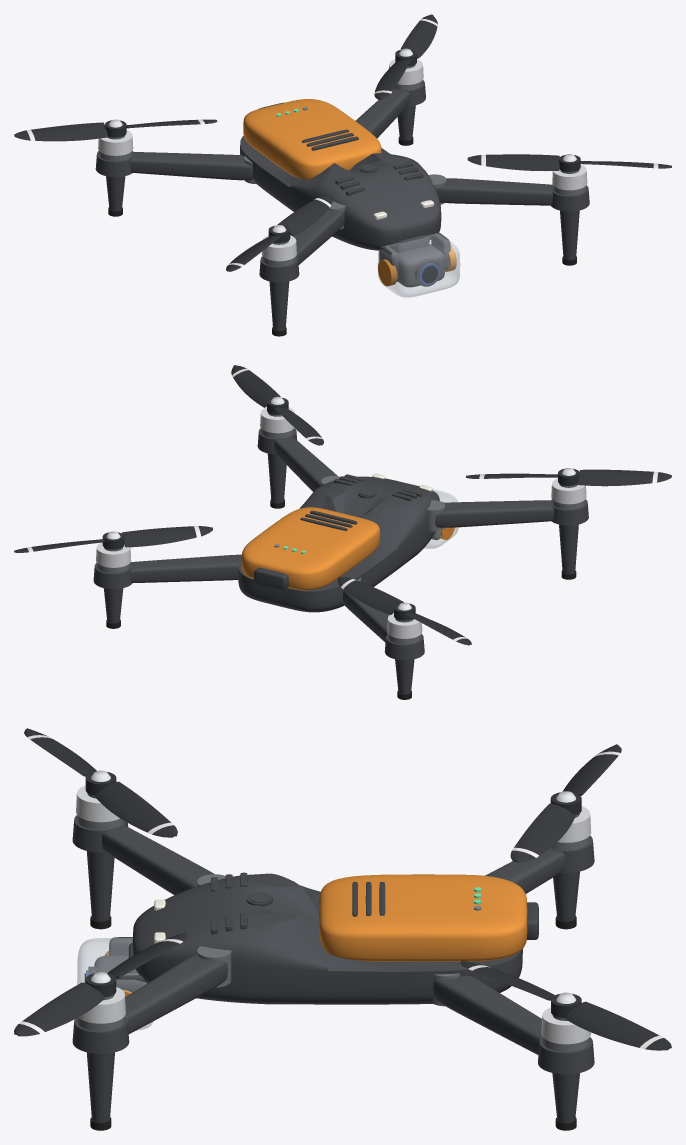
Rendered from TALON_X4.fbx.
The picture shows the model from 3 angles, top to bottom: view 1: azimuth 30°, elevation 25°; view 2: azimuth 150°, elevation 25°; view 3: azimuth 270°, elevation 25°; orthographic projection. The views are drawn at different scales.
Parts seen in each view (by area): view 1: Body, Battery, Arm_FR, Arm_RL, Gimbal_Clamp, Arm_FL, Arm_RR, Prop_RL, Prop_FR, Prop_FL, Prop_RR, Gimbal_Camera (+5 smaller); view 2: Body, Battery, Arm_FL, Arm_RR, Arm_FR, Arm_RL, Prop_FL, Prop_RR, Prop_RL, Prop_FR, Motor_RR, Motor_FL (+3 smaller); view 3: Body, Battery, Arm_FR, Arm_RR, Arm_FL, Prop_RR, Prop_FR, Prop_FL, Arm_RL, Prop_RL, Gimbal_Clamp, Motor_RR (+4 smaller).
Part boxes in pixels (x1=…): Body: x1=240, y1=136, x2=441, y2=250; Battery: x1=243, y1=99, x2=381, y2=179; Arm_FR: x1=428, y1=174, x2=589, y2=265; Arm_RL: x1=95, y1=151, x2=255, y2=216; Gimbal_Clamp: x1=377, y1=233, x2=460, y2=297; Arm_FL: x1=259, y1=201, x2=345, y2=336; Arm_RR: x1=355, y1=80, x2=425, y2=145; Prop_RL: x1=14, y1=119, x2=217, y2=141; Prop_FR: x1=467, y1=154, x2=671, y2=171; Prop_FL: x1=226, y1=195, x2=332, y2=271; Prop_RR: x1=374, y1=14, x2=437, y2=99; Gimbal_Camera: x1=397, y1=244, x2=444, y2=287; Body: x1=238, y1=473, x2=439, y2=612; Battery: x1=241, y1=507, x2=380, y2=590; Arm_FL: x1=427, y1=499, x2=588, y2=579; Arm_RR: x1=93, y1=554, x2=241, y2=628; Arm_FR: x1=257, y1=428, x2=339, y2=508; Arm_RL: x1=343, y1=578, x2=424, y2=699; Prop_FL: x1=466, y1=468, x2=671, y2=486; Prop_RR: x1=14, y1=526, x2=212, y2=552; Prop_RL: x1=338, y1=576, x2=471, y2=645; Prop_FR: x1=231, y1=365, x2=323, y2=445; Motor_RR: x1=96, y1=542, x2=131, y2=573; Motor_FL: x1=551, y1=478, x2=586, y2=509; Body: x1=132, y1=872, x2=522, y2=1004; Battery: x1=319, y1=874, x2=527, y2=961; Arm_FR: x1=72, y1=946, x2=231, y2=1130; Arm_RR: x1=431, y1=973, x2=594, y2=1130; Arm_FL: x1=72, y1=815, x2=225, y2=929; Prop_RR: x1=460, y1=960, x2=671, y2=1050; Prop_FR: x1=14, y1=932, x2=187, y2=1036; Prop_FL: x1=24, y1=728, x2=177, y2=837; Arm_RL: x1=485, y1=835, x2=594, y2=929; Prop_RL: x1=510, y1=744, x2=621, y2=862; Gimbal_Clamp: x1=77, y1=938, x2=153, y2=1030; Motor_RR: x1=541, y1=1007, x2=591, y2=1051.
Size of the model in its own units: 0.4368 by 0.0994 by 0.3914.
